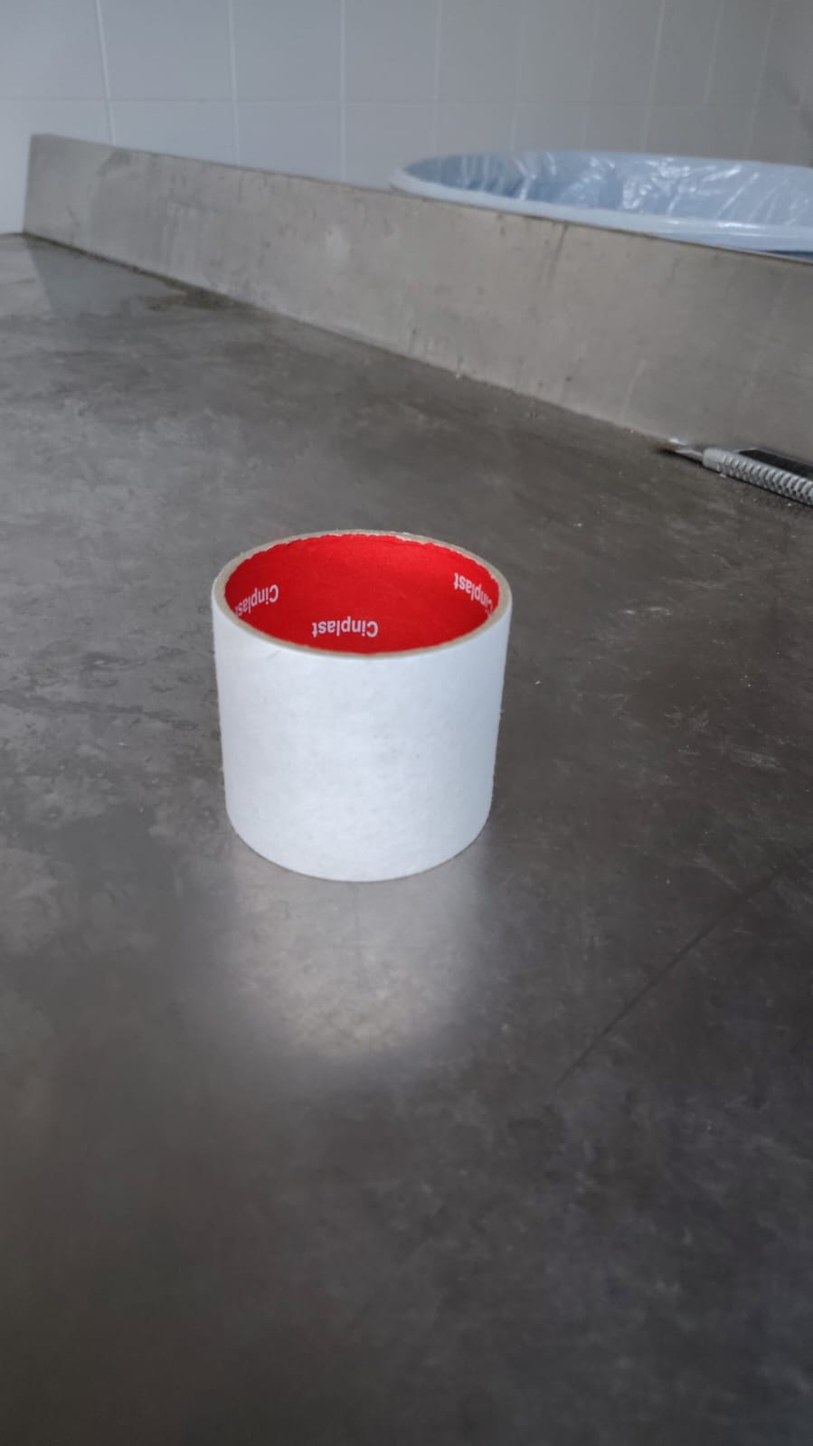Carton: (212, 526, 518, 885)
